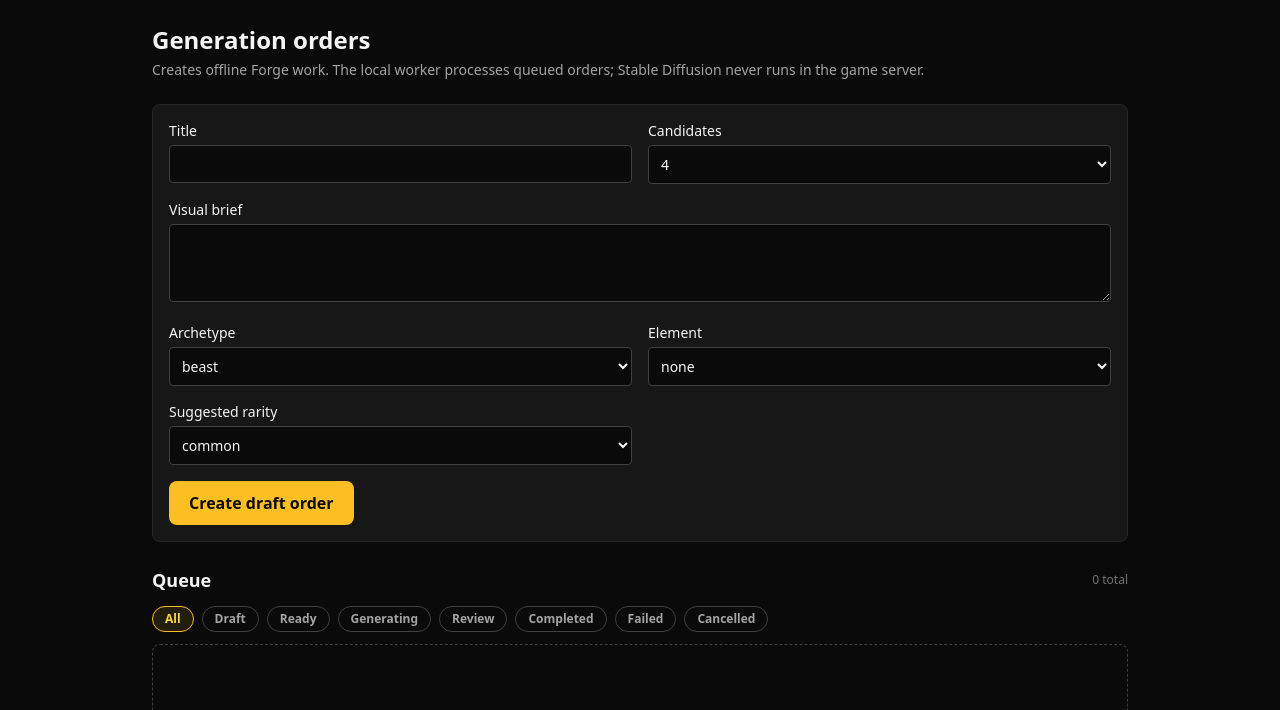
Scenario: GenerationOrders › shows the API message when creating an order fails
Type "Ancient dragon" into the field labelled "Title". click: point(400, 164)
box: [169,145,632,183]
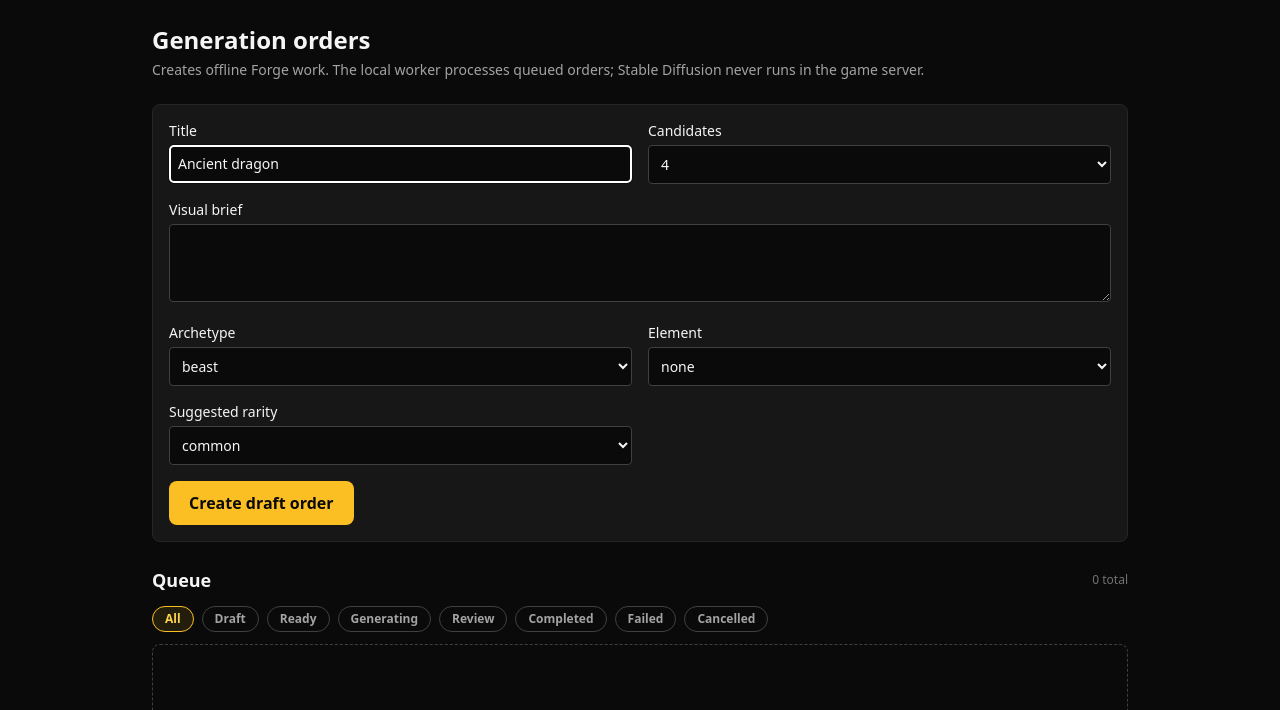
Type "A storm dragon over a ruined citadel" into the text box labelled "Visual brief". click: point(640, 263)
box: [169,224,1111,302]
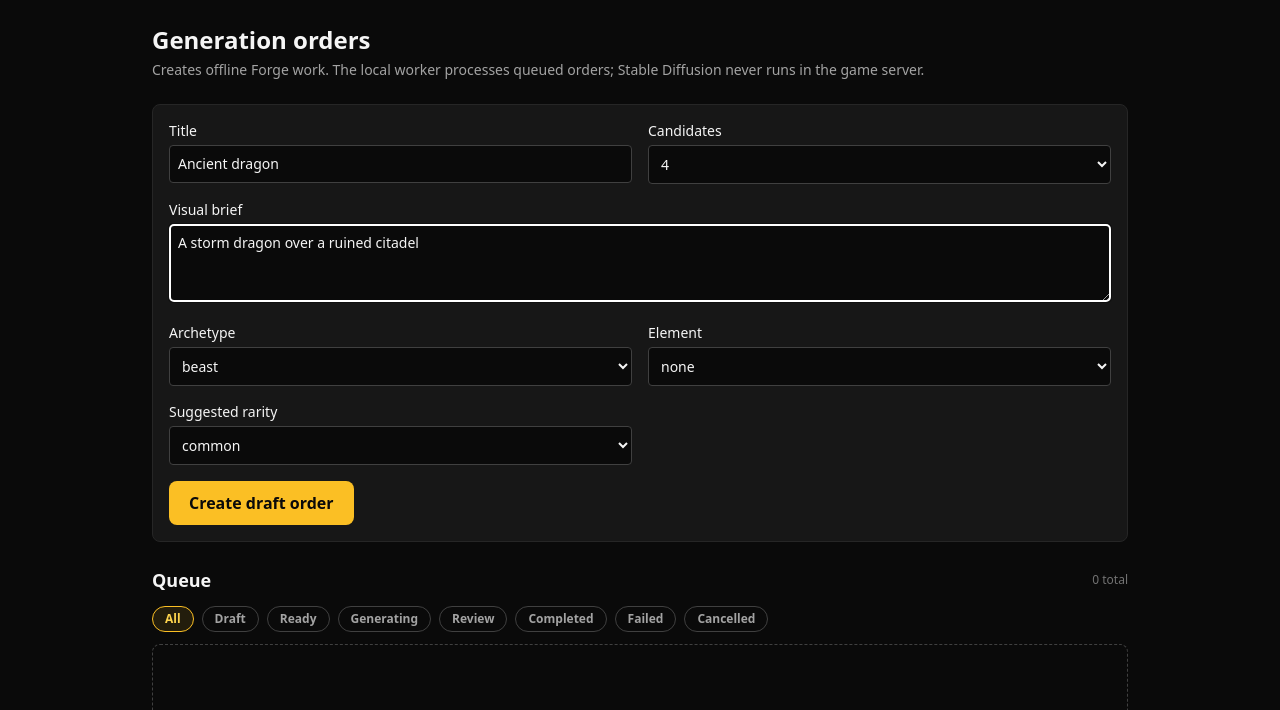
Click the button "Create draft order". click: point(261, 503)
box: [169,481,354,525]
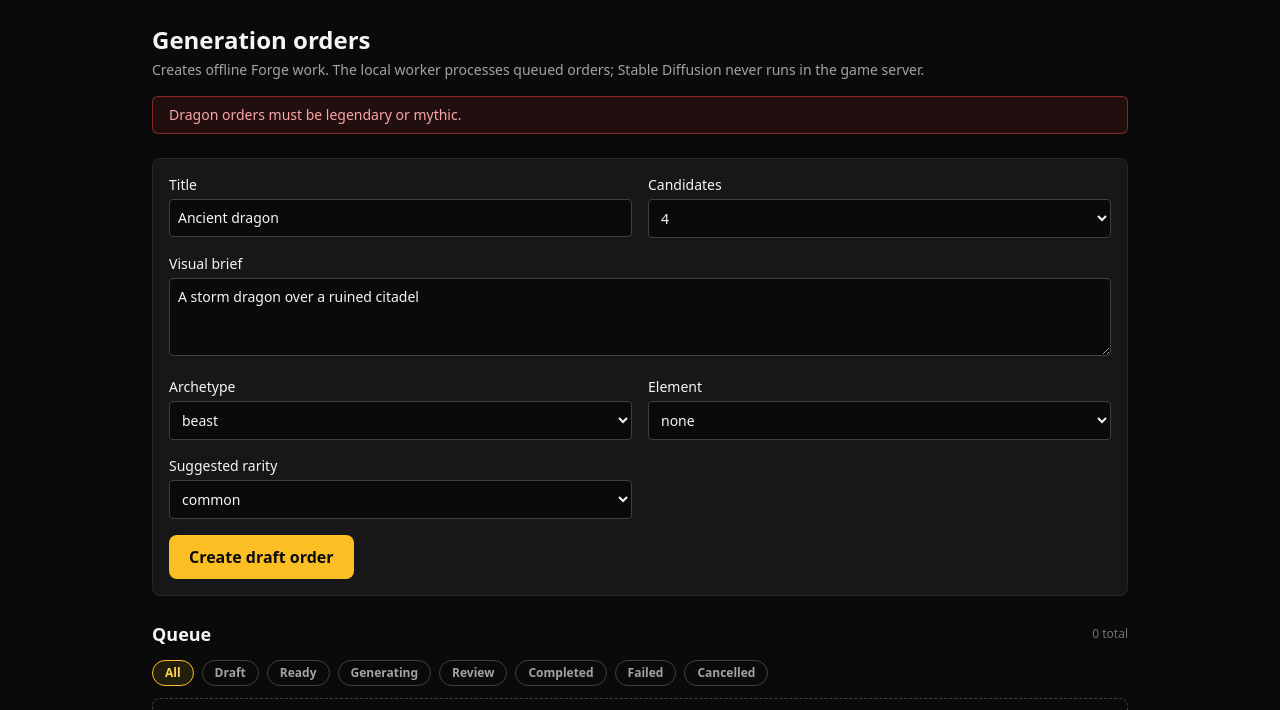
Expected: the message reads "Dragon orders must be legendary or mythic.", [169,105,462,124]
